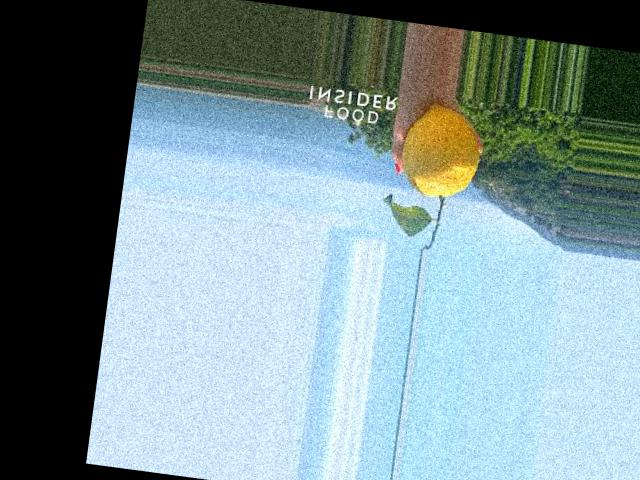lemon: (385, 99, 499, 206)
